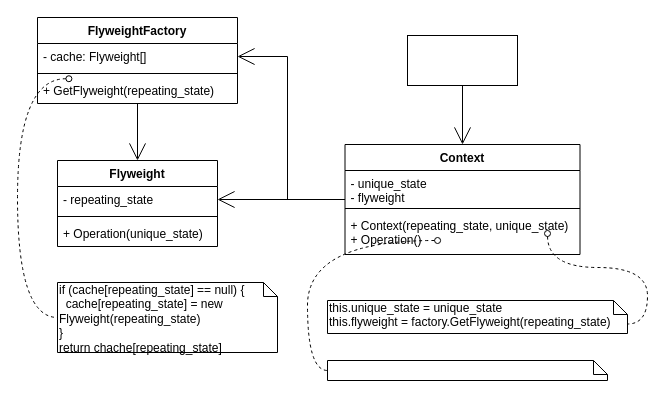
Some shapes in this 665 by 398 pixel diagram are drawn without their labels. Here are the shapes that lost their labels. From the top down, the centre of each, then its label:
At (x=462, y=60): "Client".
At (x=467, y=370): "flyweight.operation(unique_state)".
